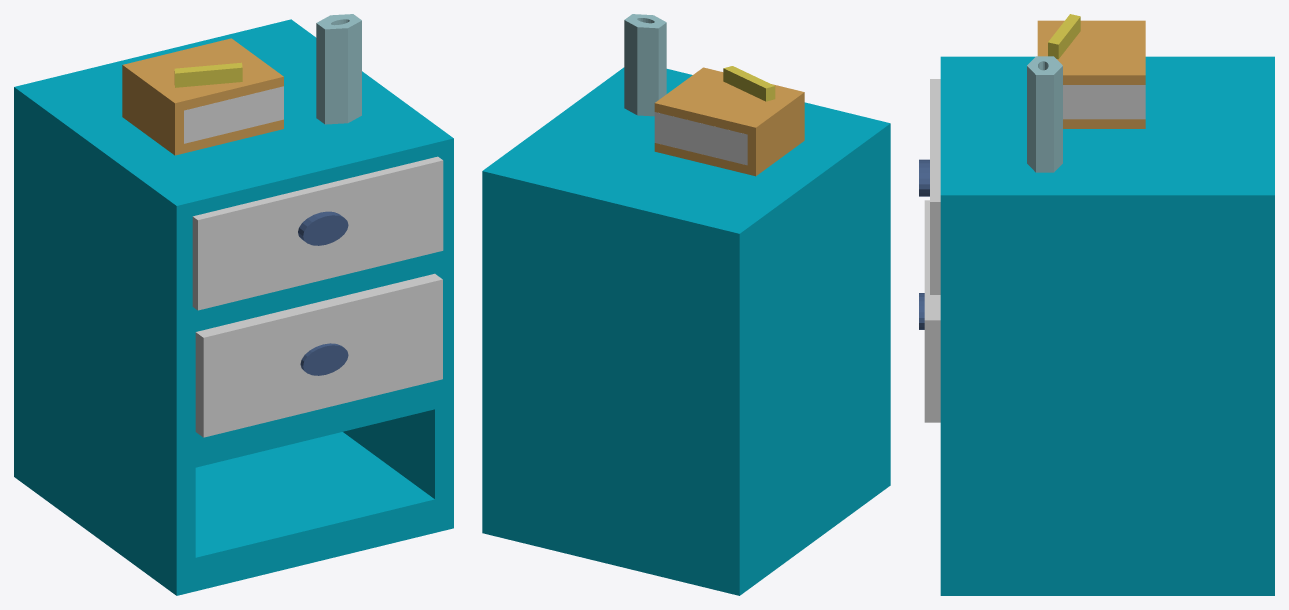
File: Side table.glb
3 views of the same model, side by side, from view 1: azimuth 30°, elevation 25°; view 2: azimuth 150°, elevation 25°; view 3: azimuth 270°, elevation 25° (orthographic). The views are drawn at different scales.
Visible parts, largest first — view 1: Mesh_Mesh_head_geo.001_lambert2SG.001; view 2: Mesh_Mesh_head_geo.001_lambert2SG.001; view 3: Mesh_Mesh_head_geo.001_lambert2SG.001.
Part boxes in pixels (box(x1,y1,x2,y2)): Mesh_Mesh_head_geo.001_lambert2SG.001: box(14, 14, 453, 595); Mesh_Mesh_head_geo.001_lambert2SG.001: box(482, 14, 890, 595); Mesh_Mesh_head_geo.001_lambert2SG.001: box(919, 14, 1274, 595).
Bounding box in the file's own units: 61 × 102 × 66.
